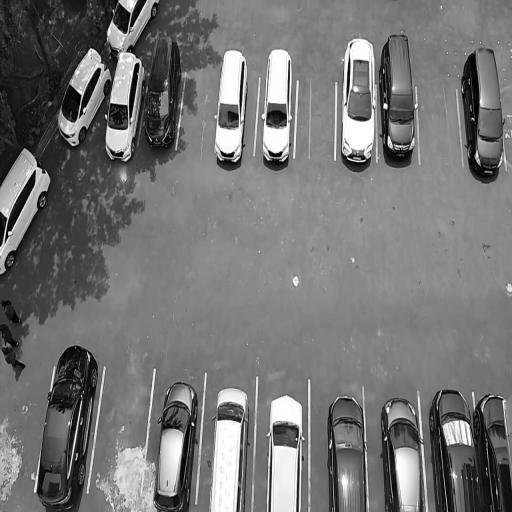Car: (34, 339, 97, 512), (0, 138, 52, 288), (428, 386, 482, 512), (461, 38, 506, 187), (153, 380, 201, 512), (379, 386, 427, 512), (324, 389, 372, 512), (55, 46, 111, 150), (378, 25, 417, 170), (208, 383, 251, 511), (261, 393, 306, 512), (142, 32, 184, 152), (340, 32, 376, 172), (473, 385, 512, 512), (104, 46, 145, 160), (214, 48, 249, 166), (261, 42, 293, 166), (105, 0, 156, 50)
Space Available: (88, 363, 153, 503), (417, 66, 463, 177), (296, 67, 335, 172), (178, 67, 219, 163)
